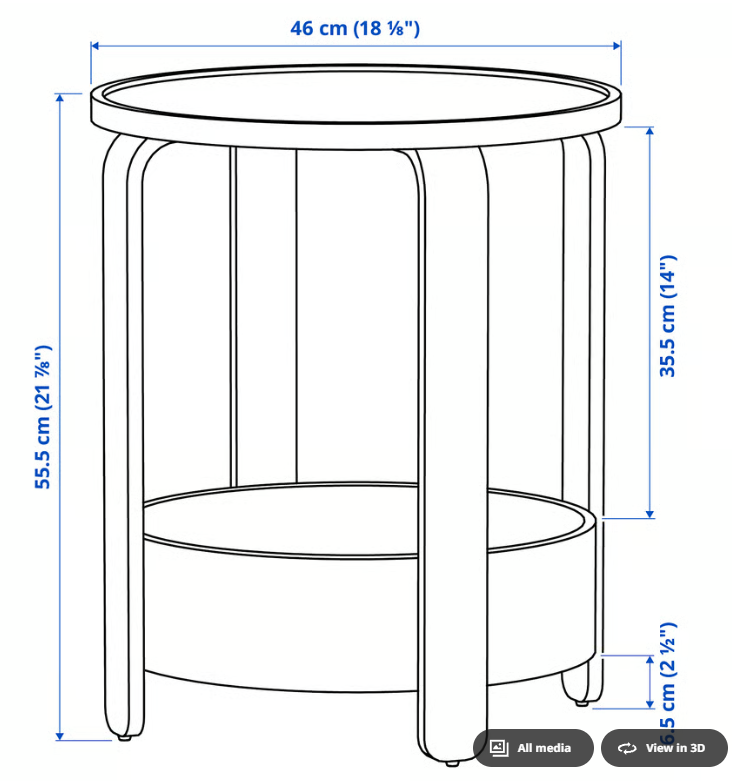table_legs: (396, 147, 489, 761), (102, 133, 174, 737), (561, 133, 605, 702), (230, 147, 297, 487)
table_support: (144, 532, 418, 693), (144, 481, 418, 559), (487, 524, 596, 685), (488, 488, 596, 553)
table_top: (91, 64, 622, 150)
